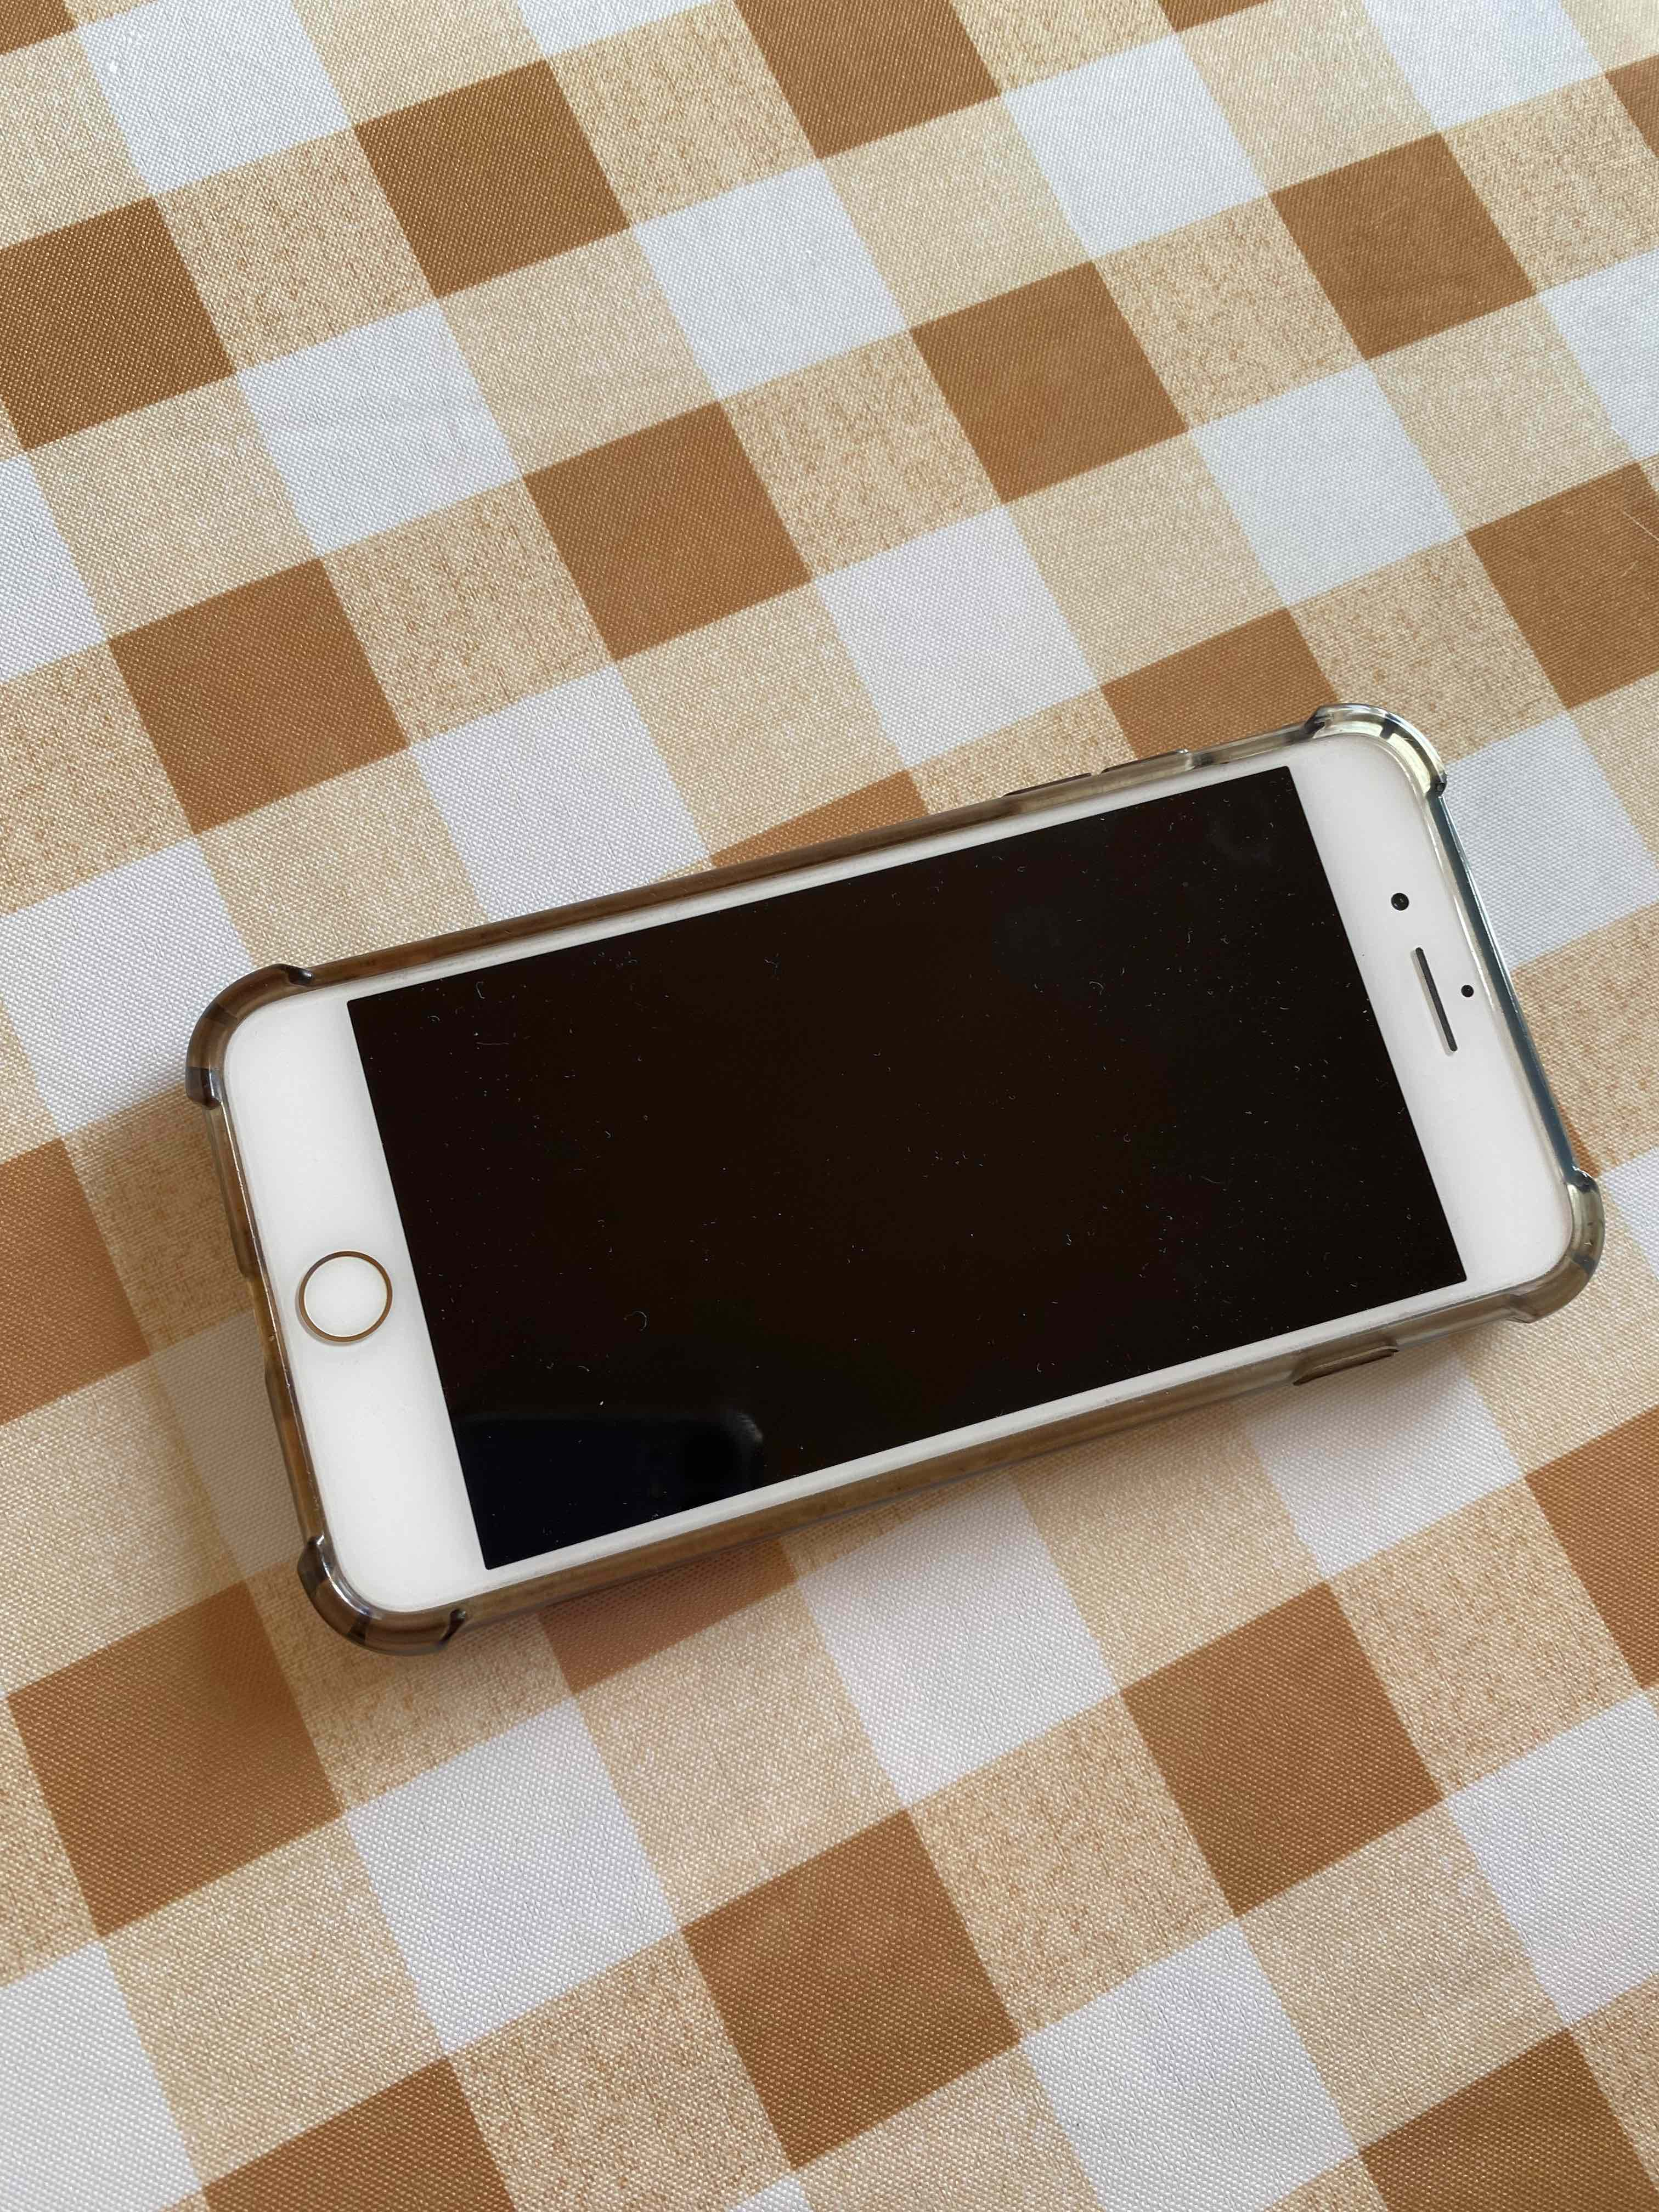Cell Phone: (188, 704, 1591, 1653)
